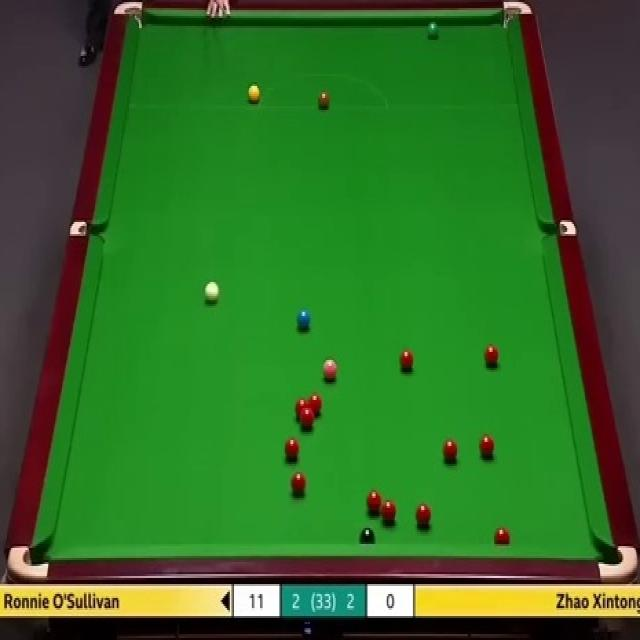black-ball: (358, 525, 376, 547)
blue-ball: (295, 308, 311, 333)
brown-ball: (316, 88, 330, 111)
green-ball: (425, 21, 440, 40)
pink-ball: (323, 354, 338, 382)
red-ball: (380, 497, 398, 528), (398, 347, 416, 375), (289, 471, 306, 499), (414, 503, 431, 529), (478, 433, 495, 459), (366, 489, 382, 515), (286, 436, 302, 461), (442, 439, 458, 463), (484, 343, 499, 368), (308, 394, 322, 418), (494, 526, 510, 546), (301, 410, 314, 430), (295, 398, 308, 418)
white-ball: (203, 280, 220, 304)
yellow-ball: (246, 83, 260, 103)
